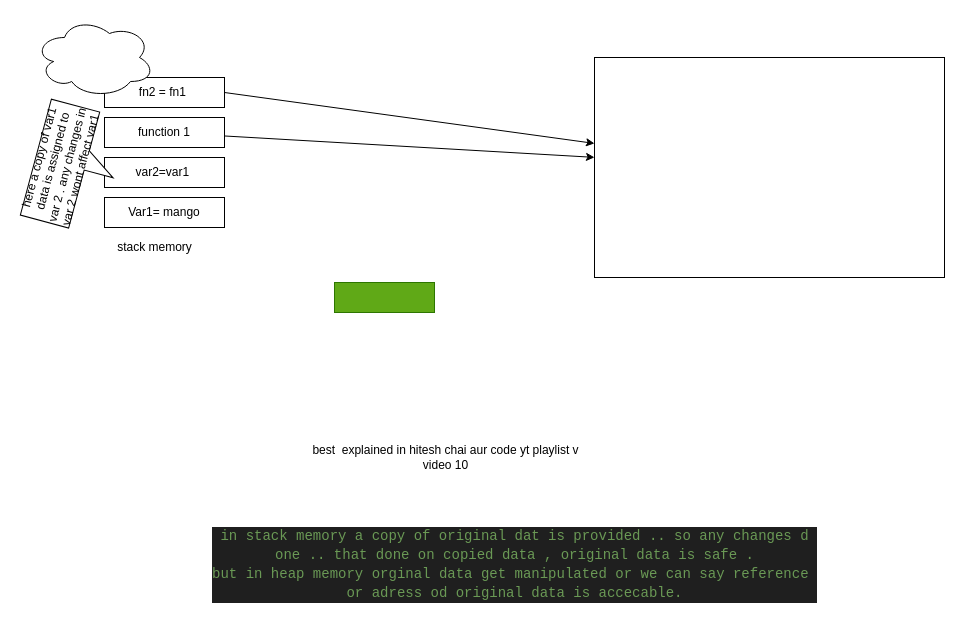
Image size: 963x625. Some labels were removed from this diagram. The box of each missing label's shape, as (x1, y1, x2, y2) in pixels:
calculations of functions and varible declared stored here: (594, 56, 944, 278)
Heap memory: (334, 282, 434, 312)
here data directly conected from heap memory in fn2: (34, 16, 154, 98)
